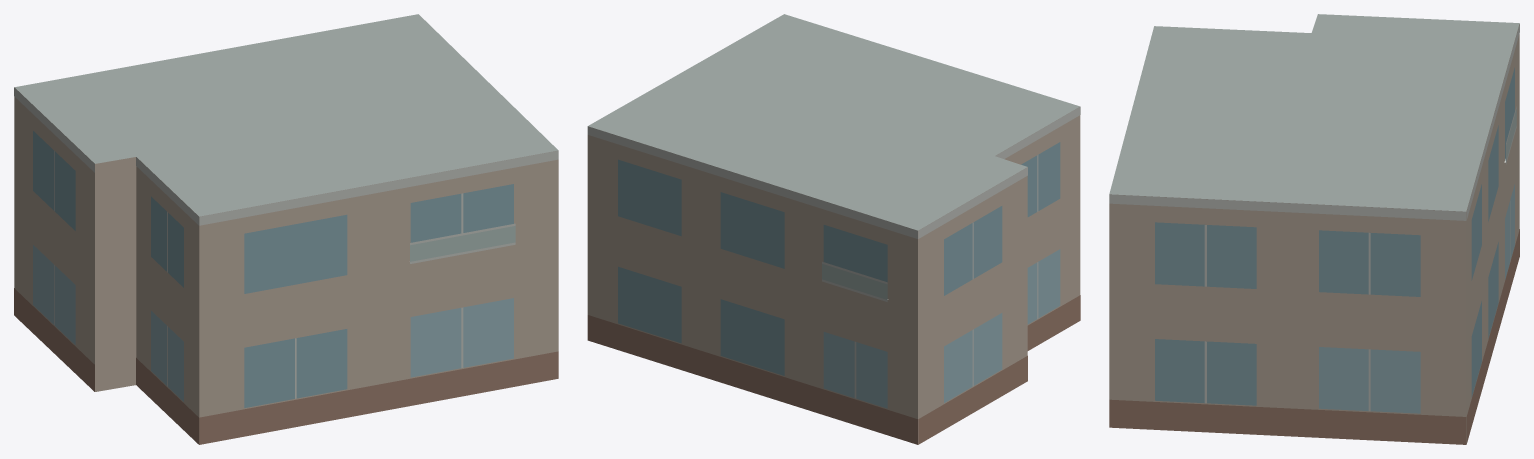
Rendered from survey-upis-32672586.glb.
3 views of the same model, side by side, from view 1: azimuth 30°, elevation 25°; view 2: azimuth 150°, elevation 25°; view 3: azimuth 270°, elevation 25° (orthographic). The views are drawn at different scales.
Visible parts, largest first — view 1: survey-upis-32672586.tmp; view 2: survey-upis-32672586.tmp; view 3: survey-upis-32672586.tmp.
Part boxes in pixels (x1,y1,x2,y2): survey-upis-32672586.tmp: (14, 14, 558, 444); survey-upis-32672586.tmp: (587, 14, 1080, 444); survey-upis-32672586.tmp: (1109, 14, 1519, 444).
Bounding box in the file's own units: 11.09 × 6.1 × 9.74.
